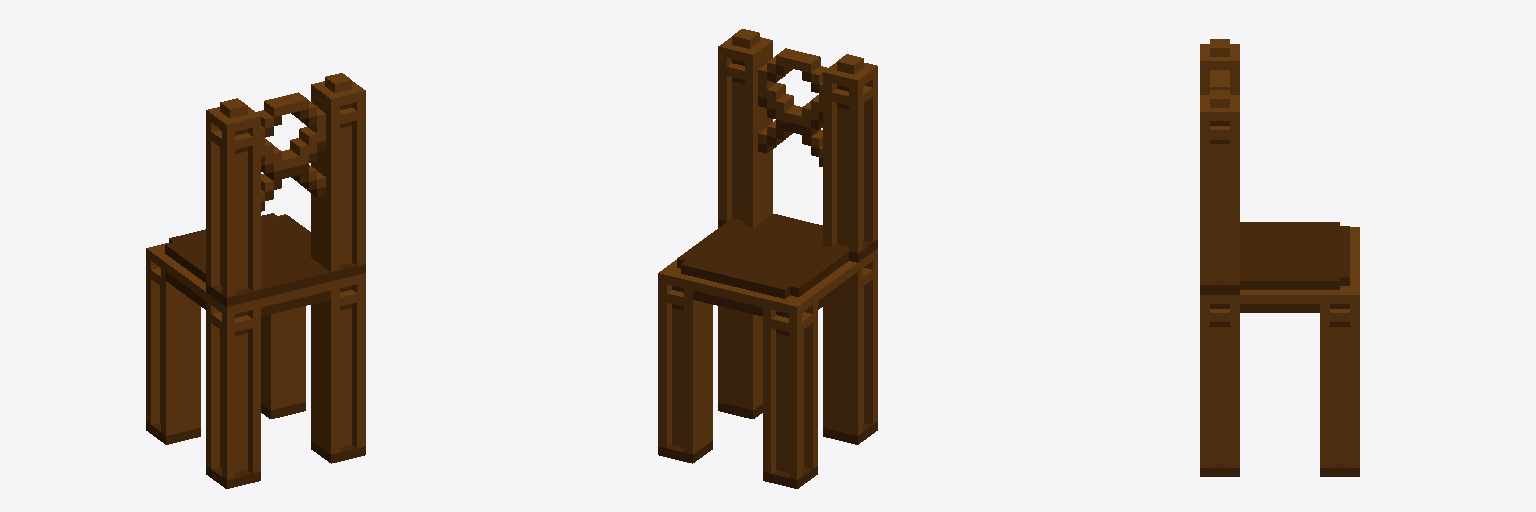
The picture shows the model from 3 angles: view 1: azimuth 30°, elevation 25°; view 2: azimuth 150°, elevation 25°; view 3: azimuth 270°, elevation 25°; orthographic projection.
Visible parts, largest first — view 1: cadeira; view 2: cadeira; view 3: cadeira.
Part boxes in pixels (x1,y1,x2,y2): cadeira: (146, 73, 365, 488); cadeira: (658, 29, 877, 488); cadeira: (1200, 39, 1359, 476).
Size of the model in its own units: 16 by 41 by 16.
Materials: 1 (1 with a texture image).